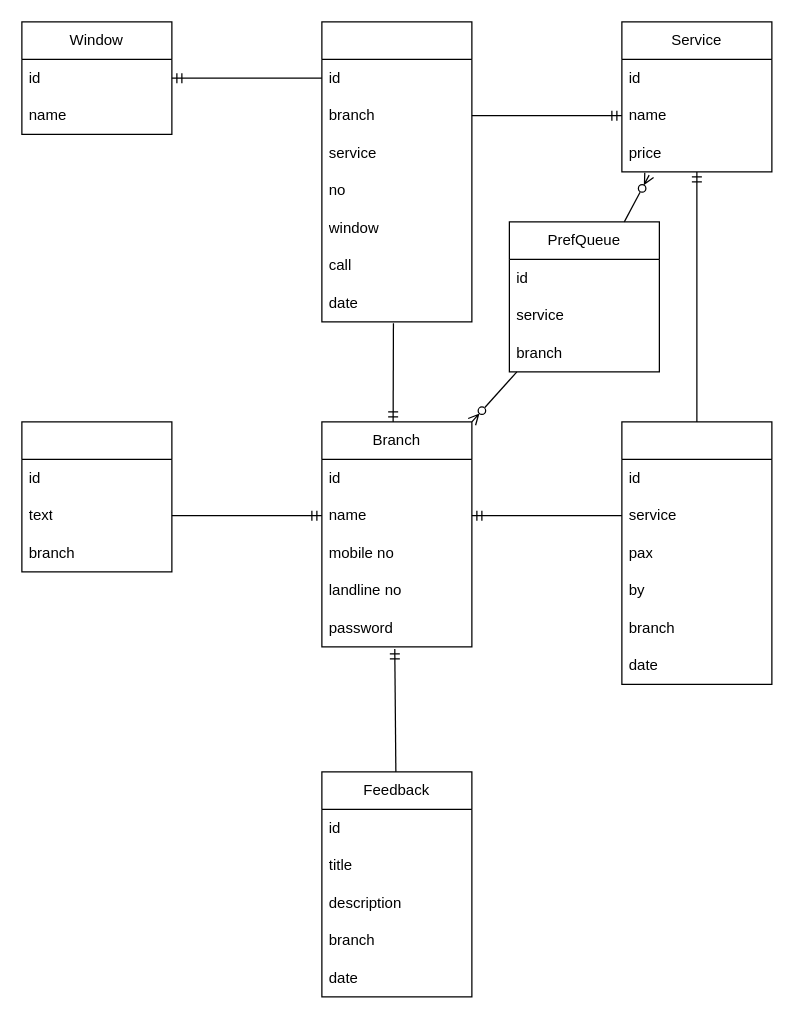
Image size: 794x1019. Some labels were removed from this diagram. Each missing label, with the box of its shape:
Newsfeed: (21, 421, 172, 572)
Queue: (321, 21, 472, 322)
Report: (621, 421, 772, 684)
